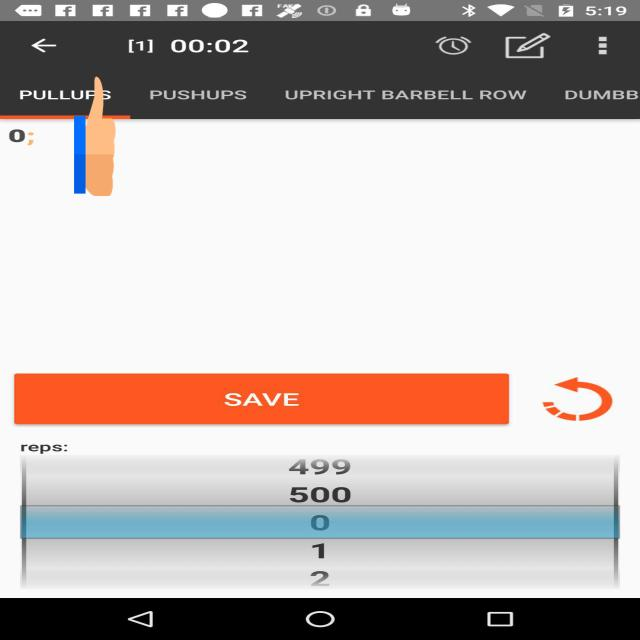privacy zuckering: (74, 74, 116, 199)
